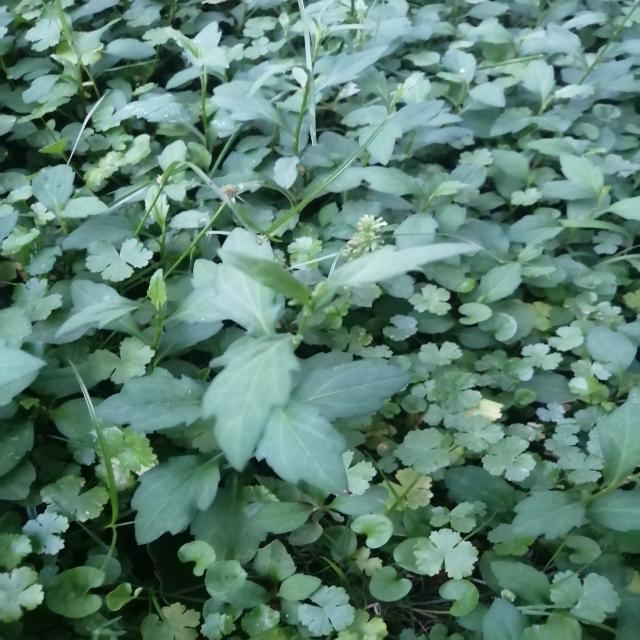Indian aster: (149, 251, 445, 492)
